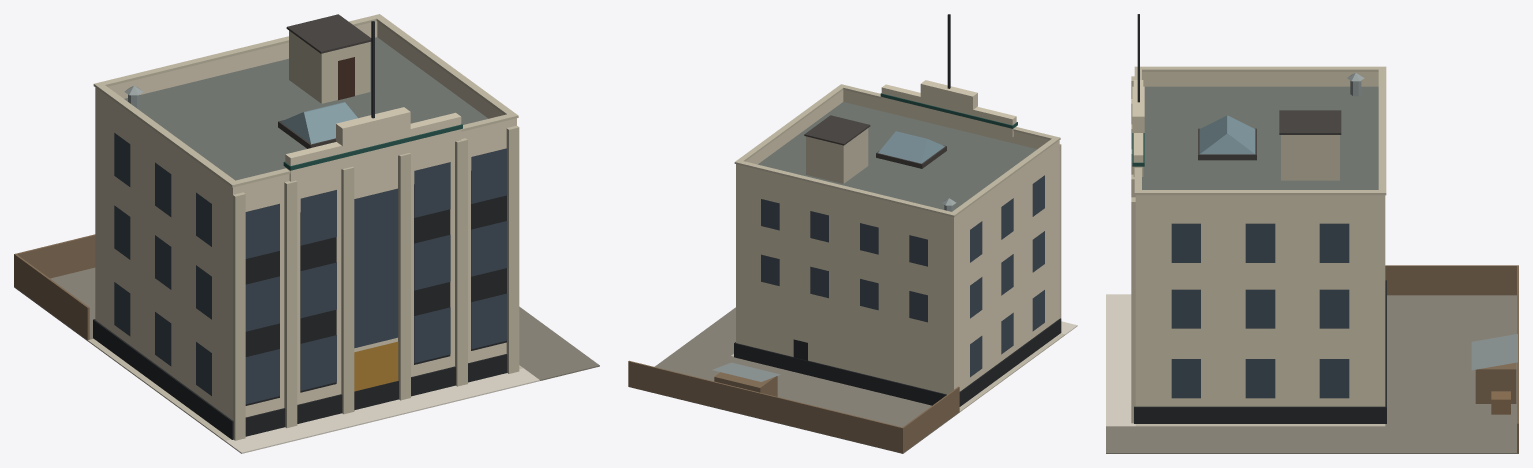
Rendered from office_b.glb.
The picture shows the model from 3 angles, left to right: view 1: azimuth 30°, elevation 25°; view 2: azimuth 150°, elevation 25°; view 3: azimuth 270°, elevation 25°; orthographic projection. The views are drawn at different scales.
Parts seen in each view (by area): view 1: office_b; view 2: office_b; view 3: office_b.
Boxes of the visible parts, x1,y1,x2,y2 form: office_b: (14,14,599,453); office_b: (628,14,1077,453); office_b: (1106,14,1518,453).
Bounding box in the file's own units: 20 × 20.42 × 22.
